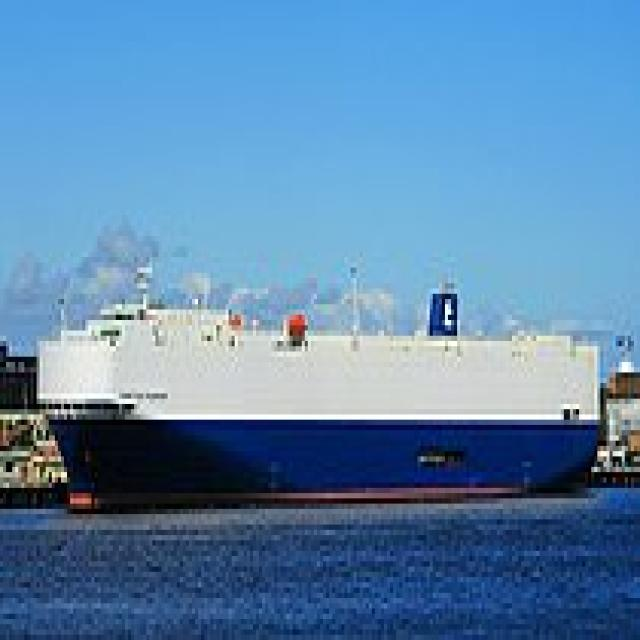Carrier: (31, 257, 604, 509)
